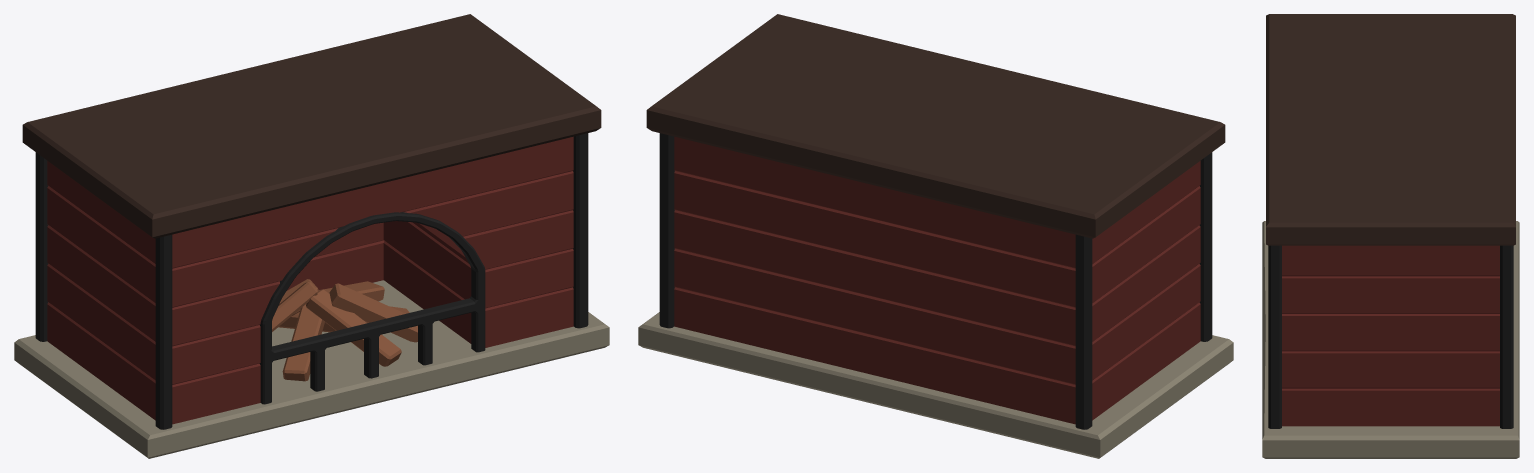
The model's file is Fireplace.fbx.
The picture shows the model from 3 angles, left to right: view 1: azimuth 30°, elevation 25°; view 2: azimuth 150°, elevation 25°; view 3: azimuth 270°, elevation 25°; orthographic projection. The views are drawn at different scales.
Parts seen in each view (by area): view 1: FirePlace; view 2: FirePlace; view 3: FirePlace.
Boxes of the visible parts, box(x1,y1,x2,y2) form: FirePlace: box(14, 14, 609, 458); FirePlace: box(638, 14, 1233, 458); FirePlace: box(1262, 14, 1519, 458).
Size of the model in its own units: 2 by 1 by 1.
Materials: 1 (1 with a texture image).
